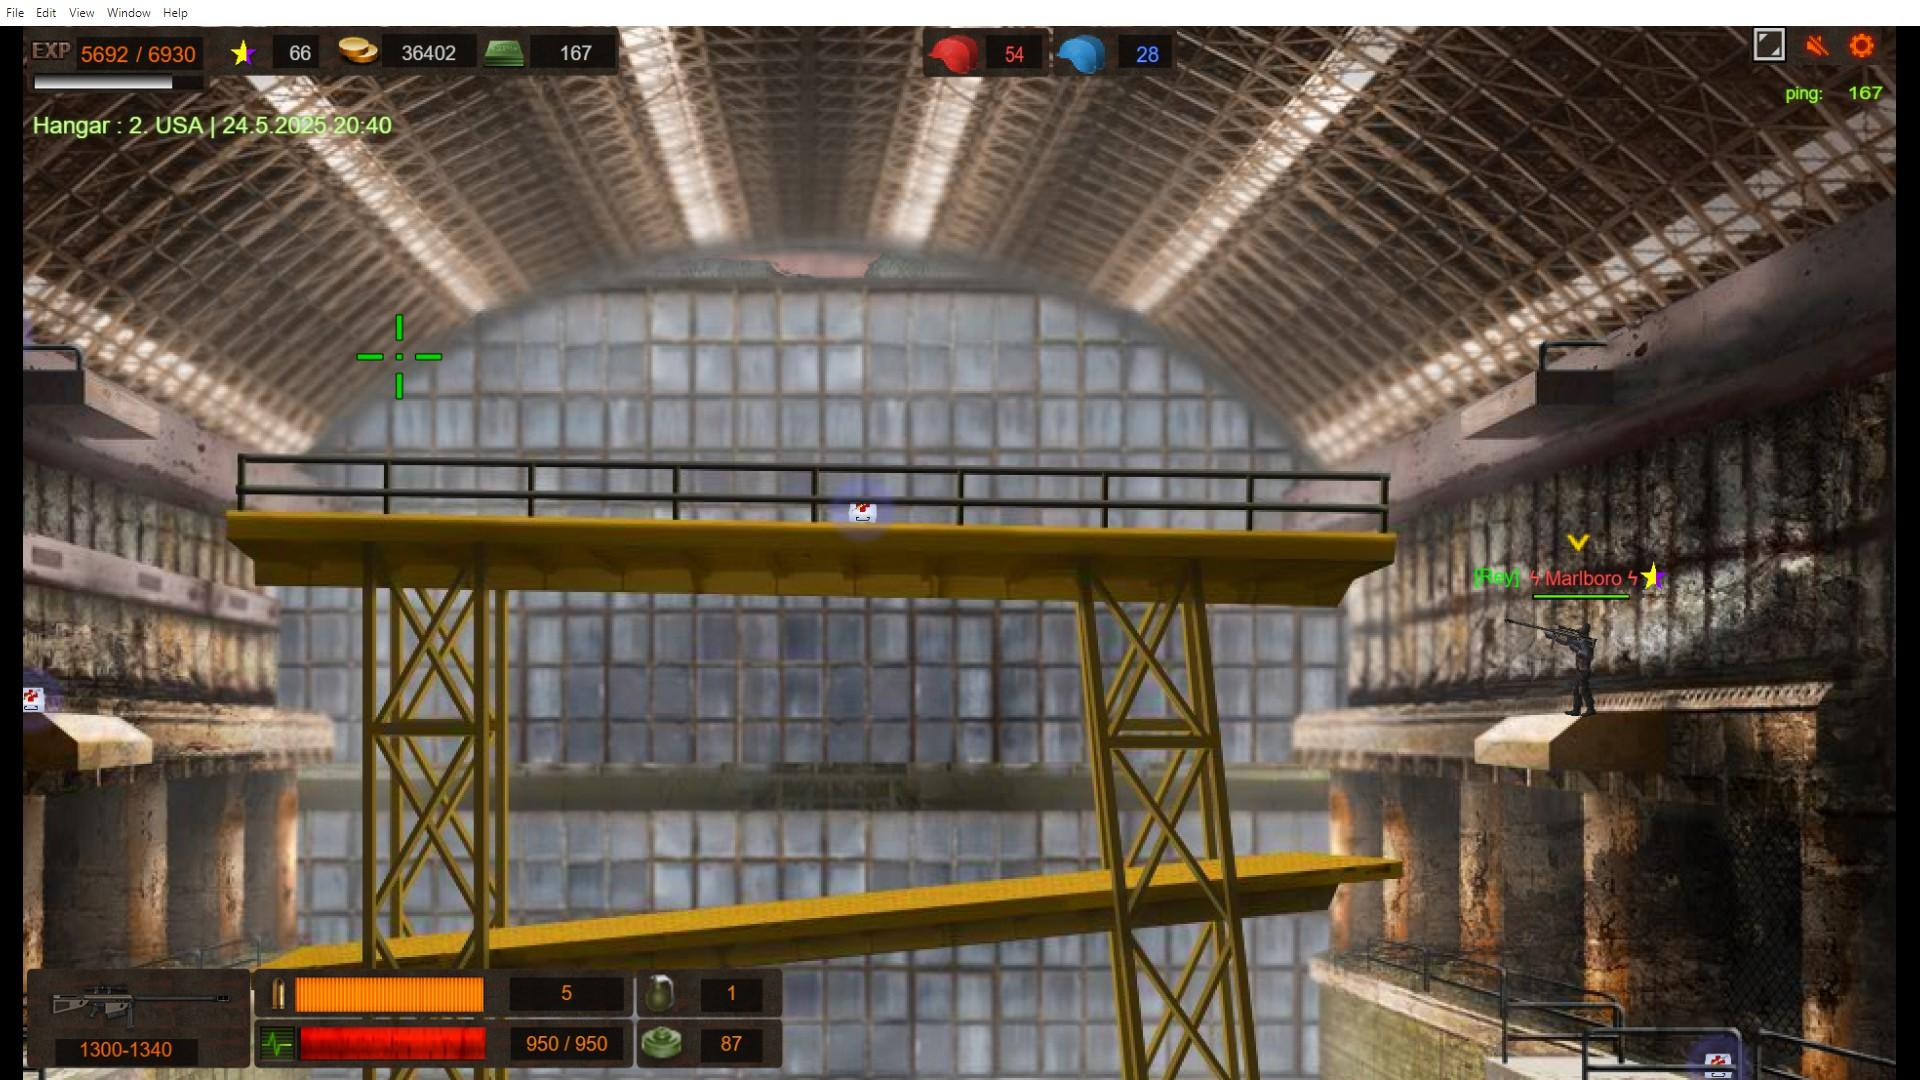enemy: (1569, 618, 1594, 716)
